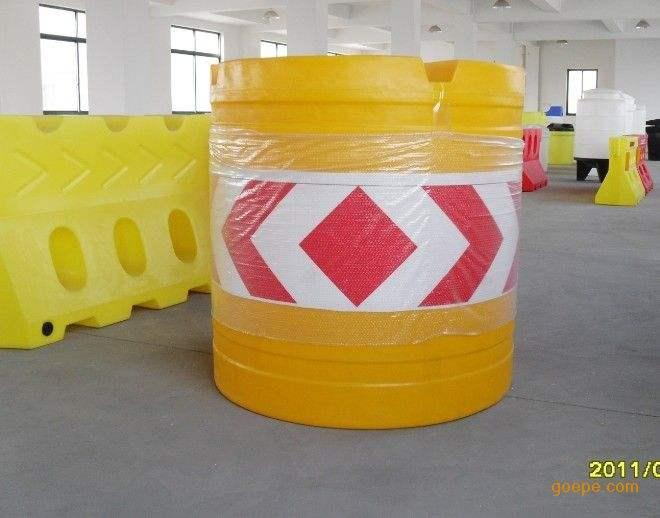sign: (185, 48, 540, 439)
